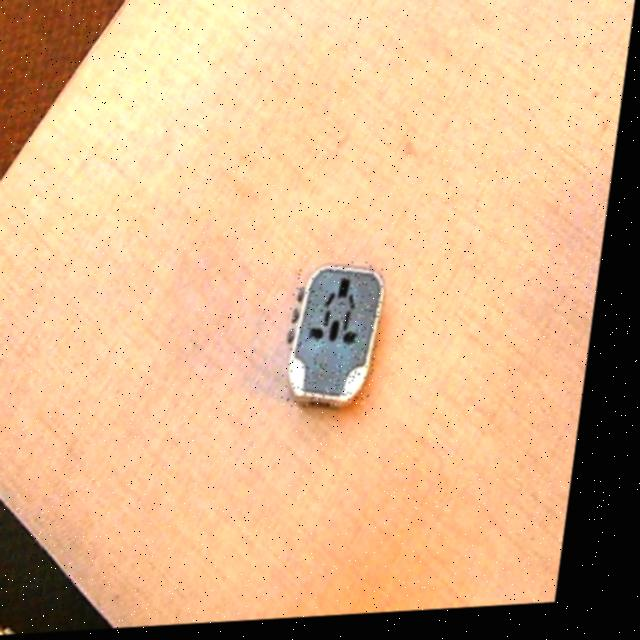adapter: (289, 264, 396, 415)
